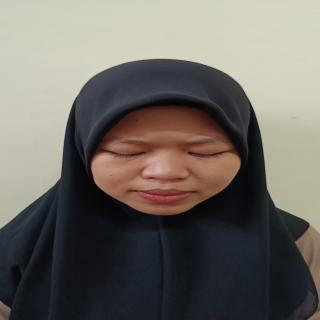Sedih: (85, 97, 248, 222)
